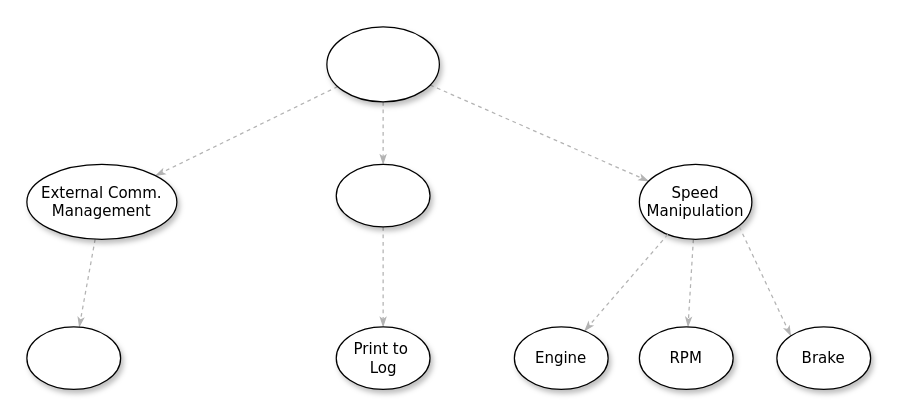
This 900x420 diagram has some shape labels left out. The centre of each missing label's shape, as x and y in pixels:
cruise control: the point at 384,66
System Logging: the point at 384,197
Visual Interface: the point at 74,359
